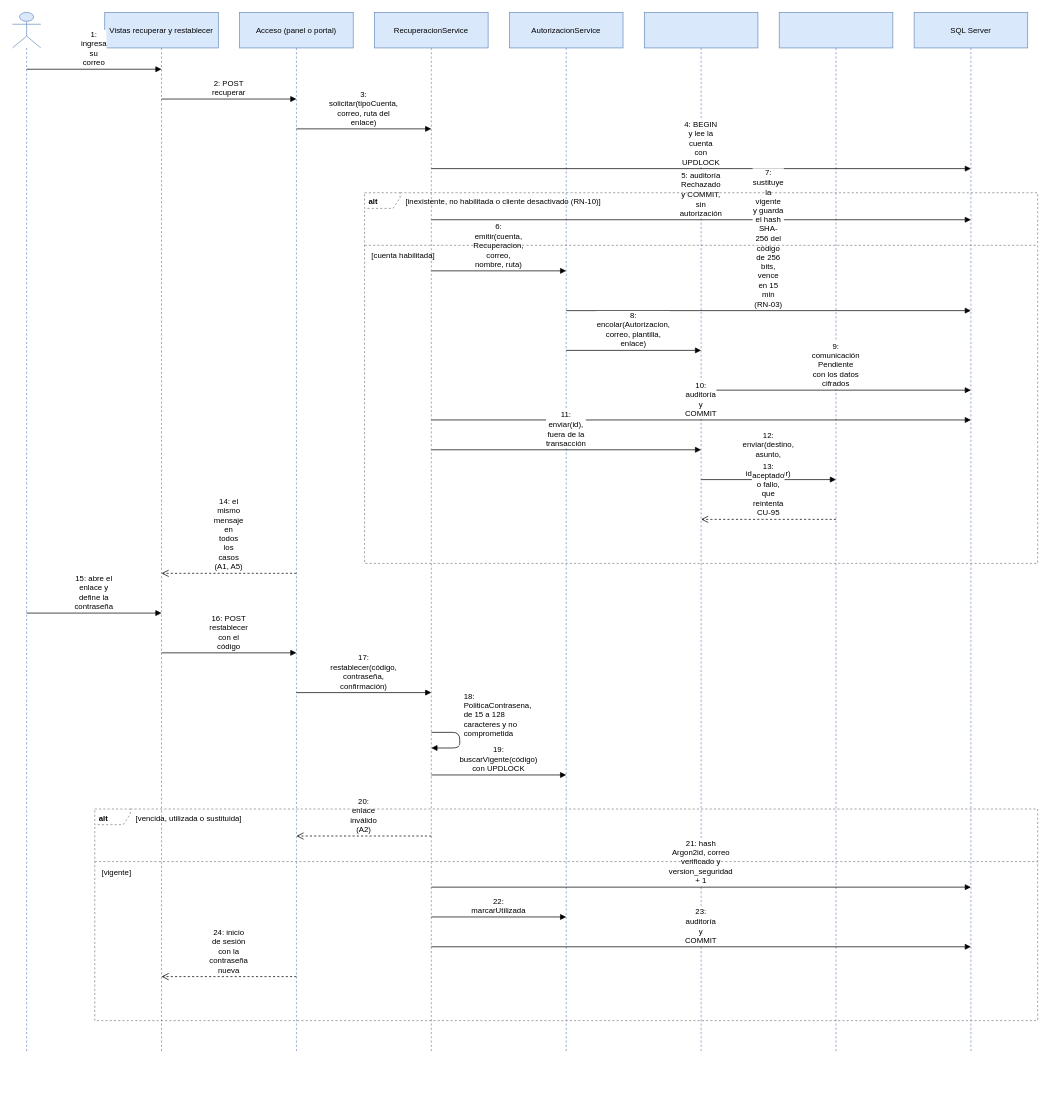
This 1051x1107 diagram has some shape labels left out. The shapes that lost their labels are listed below. From the top down, each one's box as (x1, y1, x2, y2) in pixels, then its label:
(12, 12, 41, 1052): Usuario interno o Cliente
(644, 12, 758, 1052): ComunicacionService
(779, 12, 893, 1052): ComunicacionesInterface
